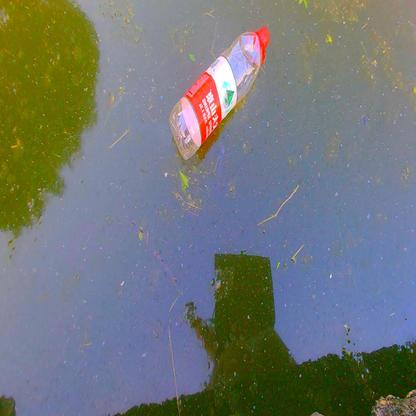plastic bottle: (166, 26, 271, 160)
